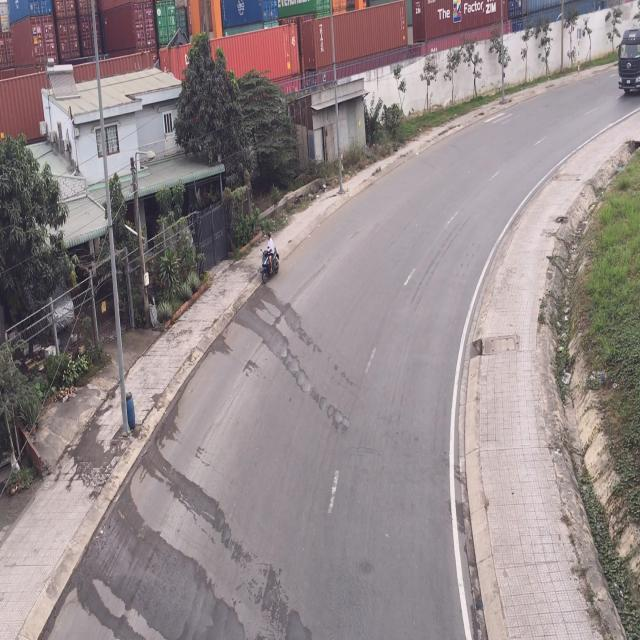motorbike: (262, 236, 281, 287)
truck: (618, 26, 640, 100)
